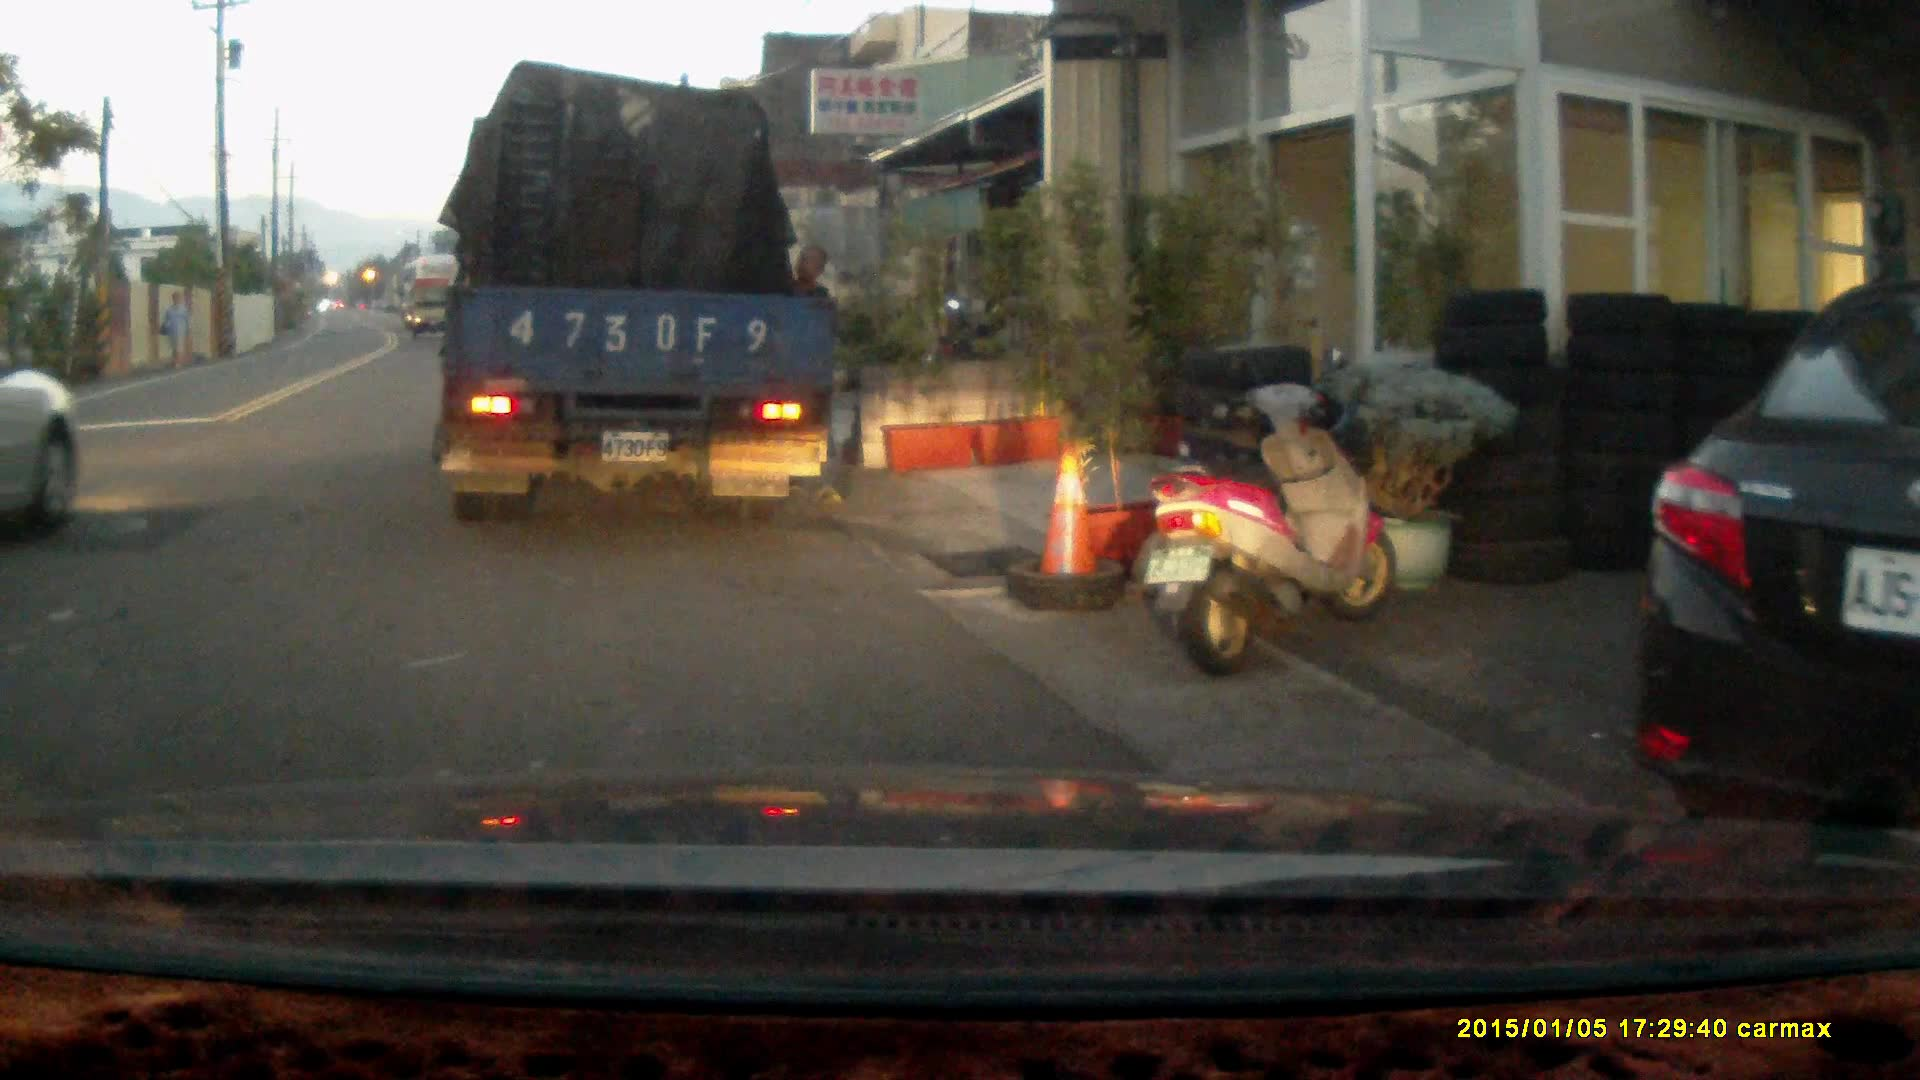pedestrian: (159, 289, 193, 364)
vehicle: (433, 73, 846, 512), (1626, 275, 1920, 866), (1, 346, 85, 532), (401, 252, 466, 329), (410, 282, 461, 338)
